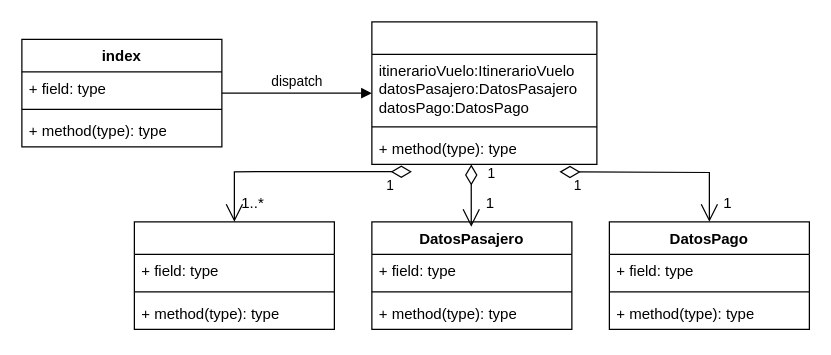
Image size: 831x355. Some labels were removed from this diagram. Here are the shapes that lost their labels. From the top down, the box of each, then its label:
(371, 21, 597, 164): ReservacionDeVuelo
(133, 221, 334, 329): ItinerarioVuelo
